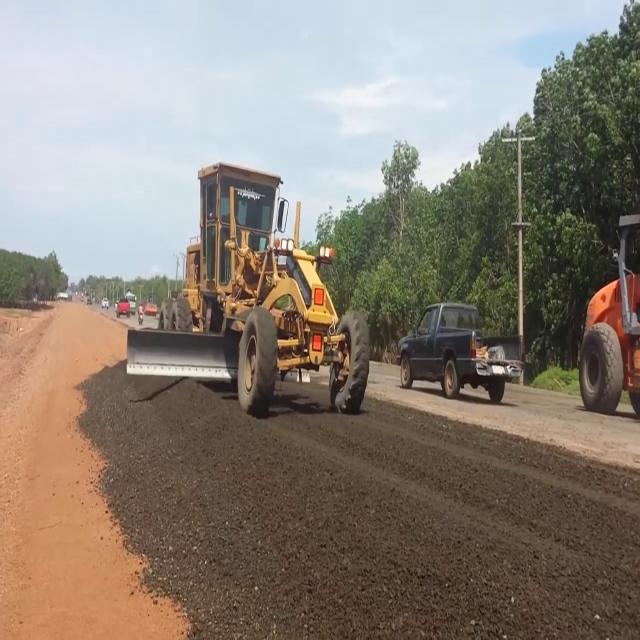buldozerpayloadergrader: (126, 161, 370, 417)
